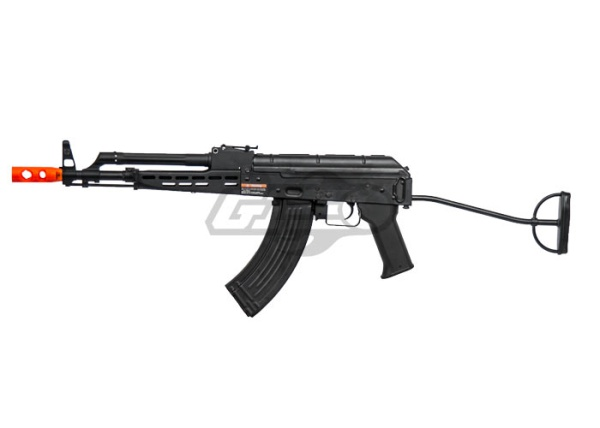ak47: (12, 139, 571, 316)
